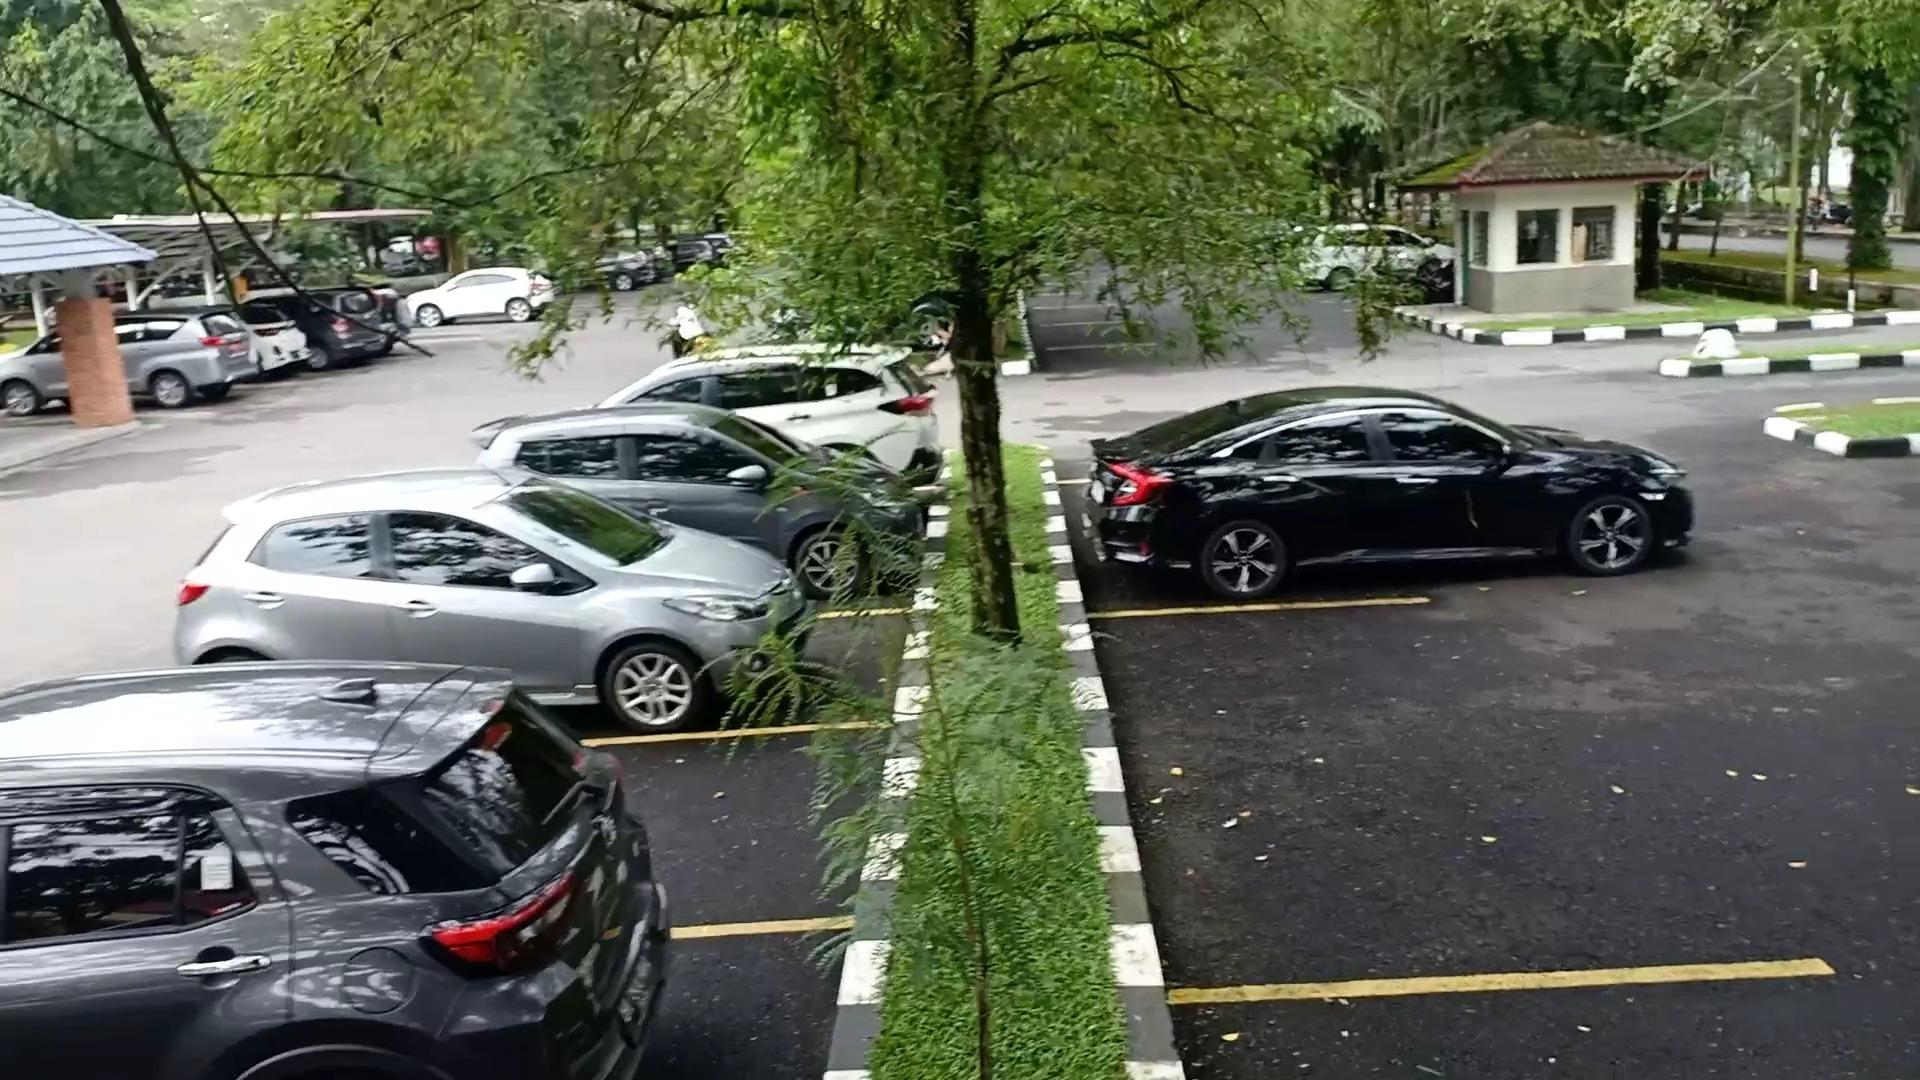empty: (1086, 609, 1772, 982), (627, 728, 867, 930)
occupied: (1077, 426, 1556, 607), (489, 575, 882, 739)
